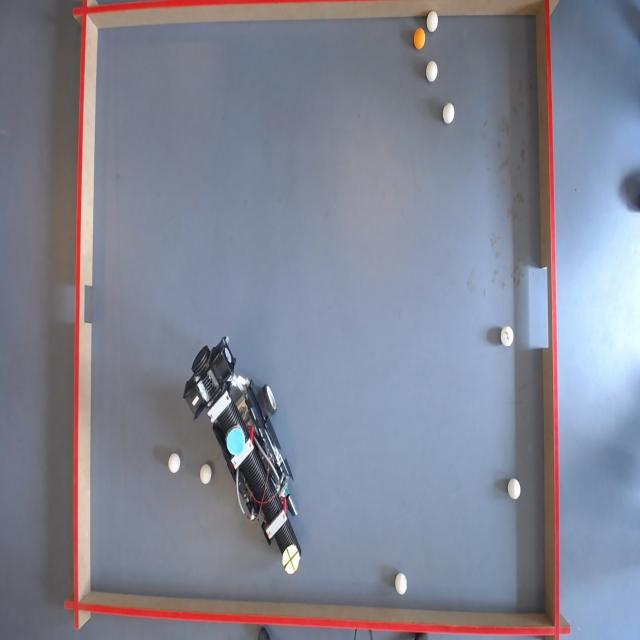orange: (414, 29, 427, 50)
robot: (186, 340, 303, 581)
robot-front: (284, 547, 300, 575)
robot-rear: (228, 426, 246, 458)
white: (499, 324, 515, 349), (509, 479, 524, 502), (394, 574, 408, 596), (444, 104, 457, 125), (426, 10, 438, 32), (426, 62, 438, 84), (169, 453, 182, 473), (200, 464, 213, 484)
